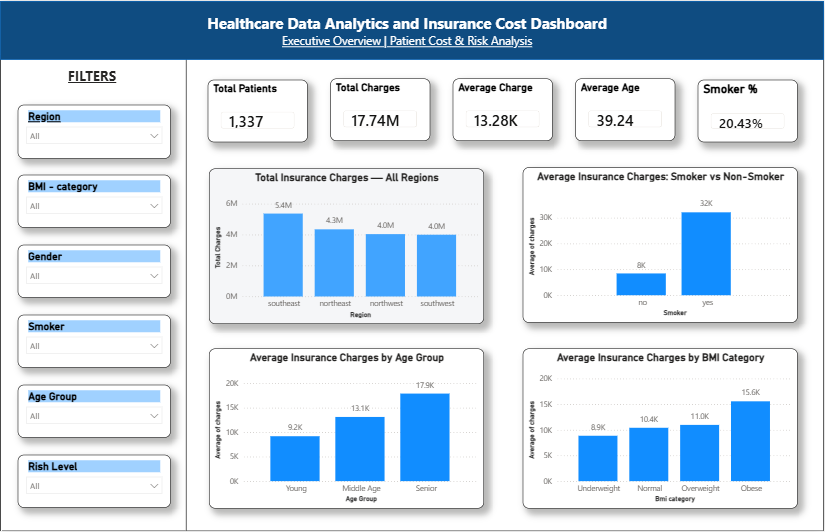

Layout of this report page (visuals, bound fields, positions):
{"tool":"powerbi","page":{"name":"Page 1","canvas":[1280,720],"ordinal":0},"visuals":[{"type":"card","fields":{"Values":["Sum(healthcare_cleaned.charges)"]},"box":[10.5,0,380.4,359.5],"z":0},{"type":"card","fields":{"Values":["CountNonNull(healthcare_cleaned.age)"]},"box":[10.5,324.6,380.4,359.5],"z":2},{"type":"clusteredColumnChart","fields":{"Category":["healthcare_cleaned.smoker"],"Y":["Avg(healthcare_cleaned.charges)"]},"box":[390.9,0,380,352.7],"z":3},{"type":"clusteredColumnChart","fields":{"Category":["healthcare_cleaned.age_group"],"Y":["Avg(healthcare_cleaned.charges)"]},"box":[390.9,361.2,380.4,359.5],"z":4},{"type":"clusteredColumnChart","fields":{"Category":["healthcare_cleaned.bmi_category"],"Y":["Avg(healthcare_cleaned.charges)"]},"box":[781,0,380,352],"z":5},{"type":"clusteredColumnChart","fields":{"Category":["healthcare_cleaned.region"],"Y":["Sum(healthcare_cleaned.charges)"]},"box":[781,361,380,359],"z":6}]}

Visuals, with their boxes on the page's 1280x720 design canvas (x1, y1, x2, y2). These are canvas units, not pixel positions in the 825x532 screenshot, which may show the page scaled, cropped or inside an application window:
card - Sum(healthcare_cleaned.charges): x1=10 y1=0 x2=391 y2=360
card - CountNonNull(healthcare_cleaned.age): x1=10 y1=325 x2=391 y2=684
clusteredColumnChart - healthcare_cleaned.smoker x Avg(healthcare_cleaned.charges): x1=391 y1=0 x2=771 y2=353
clusteredColumnChart - healthcare_cleaned.age_group x Avg(healthcare_cleaned.charges): x1=391 y1=361 x2=771 y2=721
clusteredColumnChart - healthcare_cleaned.bmi_category x Avg(healthcare_cleaned.charges): x1=781 y1=0 x2=1161 y2=352
clusteredColumnChart - healthcare_cleaned.region x Sum(healthcare_cleaned.charges): x1=781 y1=361 x2=1161 y2=720
